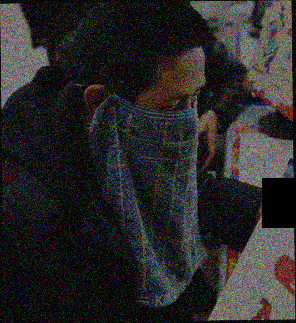with_mask: (110, 82, 208, 183)
